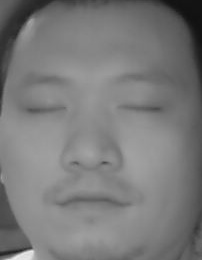blink: (117, 99, 160, 120), (26, 100, 66, 119)
mouth: (57, 189, 128, 220)
